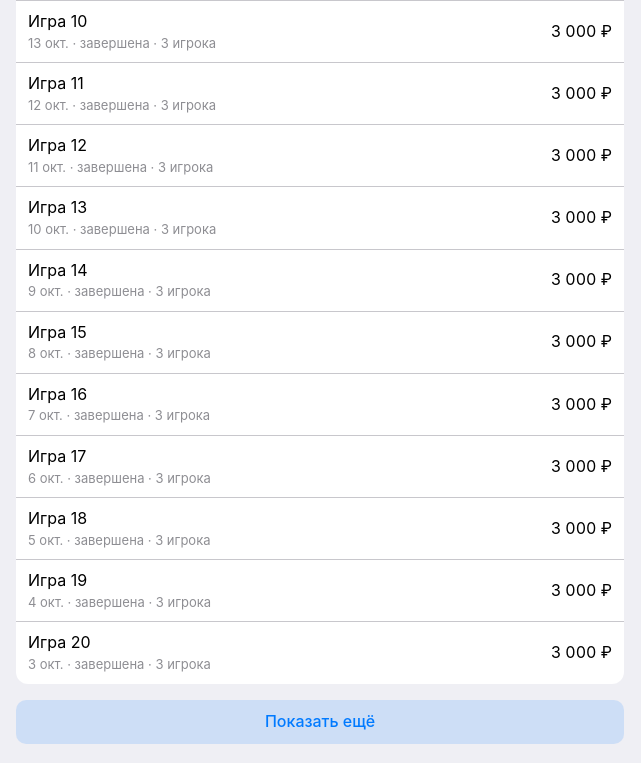
HistoryPage › loads further pages by cursor
(page scrolled)
Step 1. Click the button "Показать ещё" → x=320, y=722, box x1=16 y1=700 x2=624 y2=744
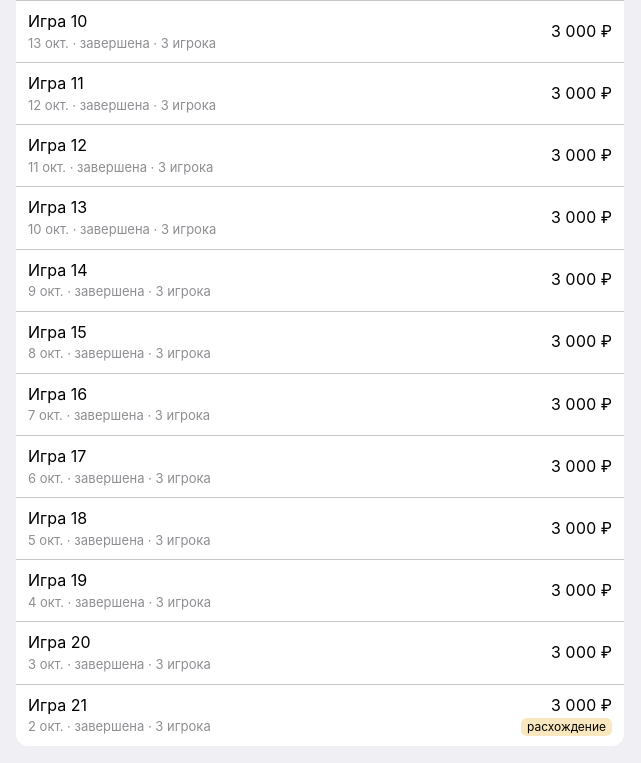
Expected: the button "Игра 21" shows "расхождение", x1=16 y1=684 x2=624 y2=746
Expected: the button "Показать ещё" is gone
